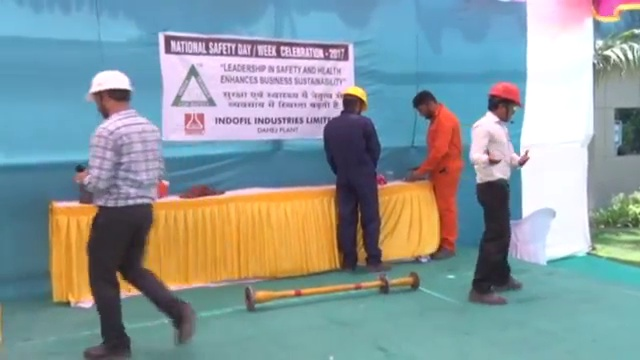helmet: (84, 68, 134, 98), (487, 80, 524, 106), (344, 83, 372, 111)
helmet_off: (411, 90, 443, 123)
helmet_on: (83, 68, 134, 119), (486, 79, 526, 125), (340, 81, 372, 116)
person: (76, 67, 198, 359), (468, 81, 531, 304), (323, 82, 391, 272), (408, 90, 458, 260)
